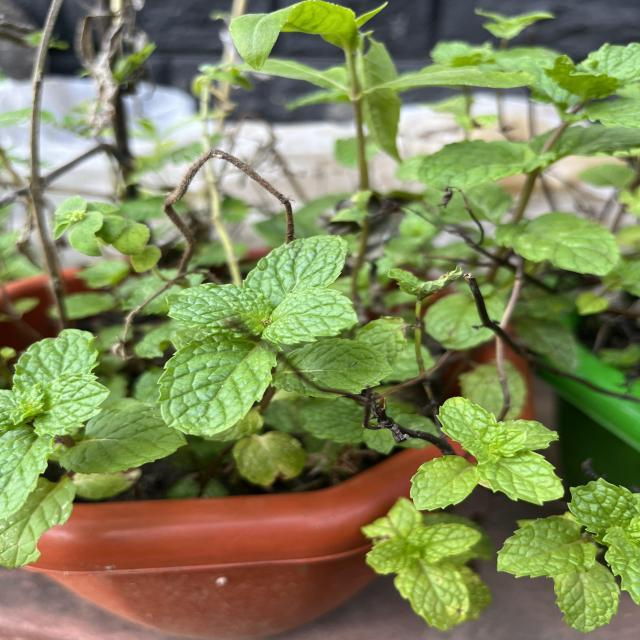Mentha spicata: (154, 332, 282, 438), (496, 515, 598, 579), (165, 282, 272, 338), (262, 286, 360, 346), (475, 450, 566, 506), (408, 454, 481, 512)
